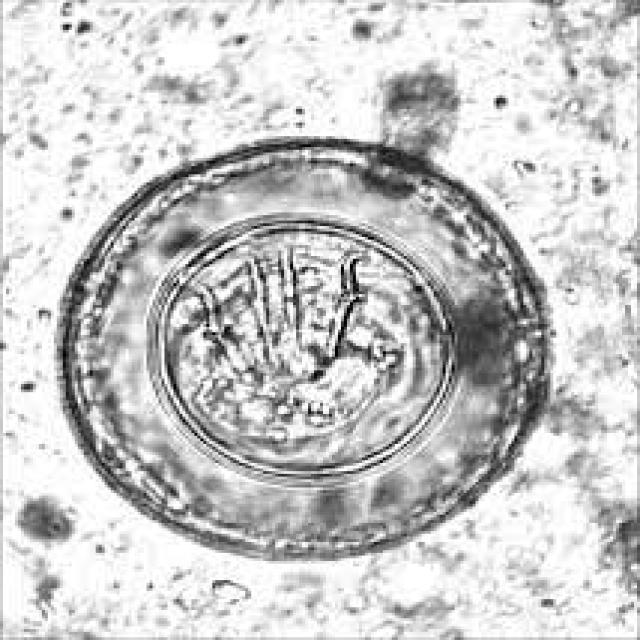Hymenolepis: (49, 124, 564, 570)
